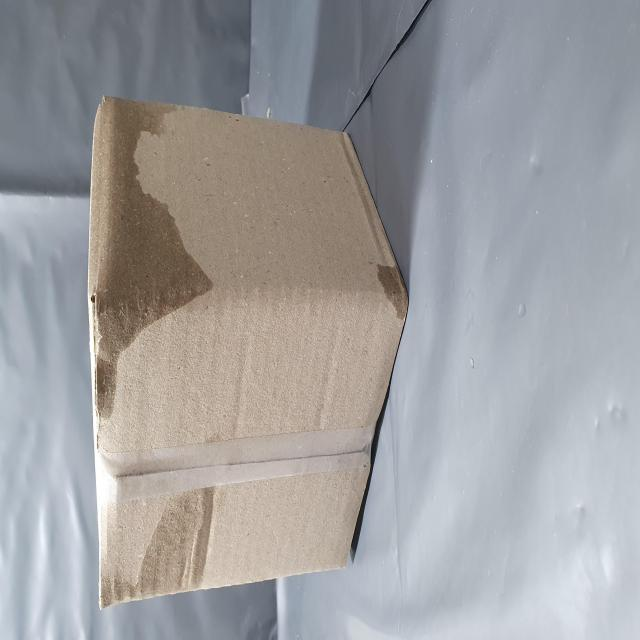wet: (126, 160, 304, 378), (19, 172, 84, 402)
